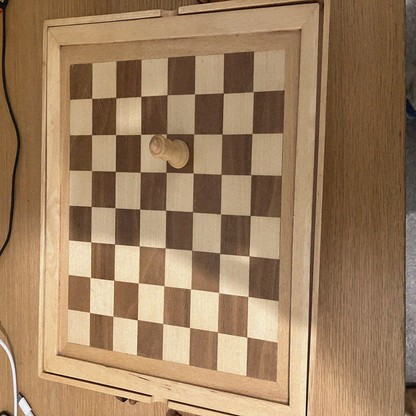queen_white: (151, 135, 189, 169)
